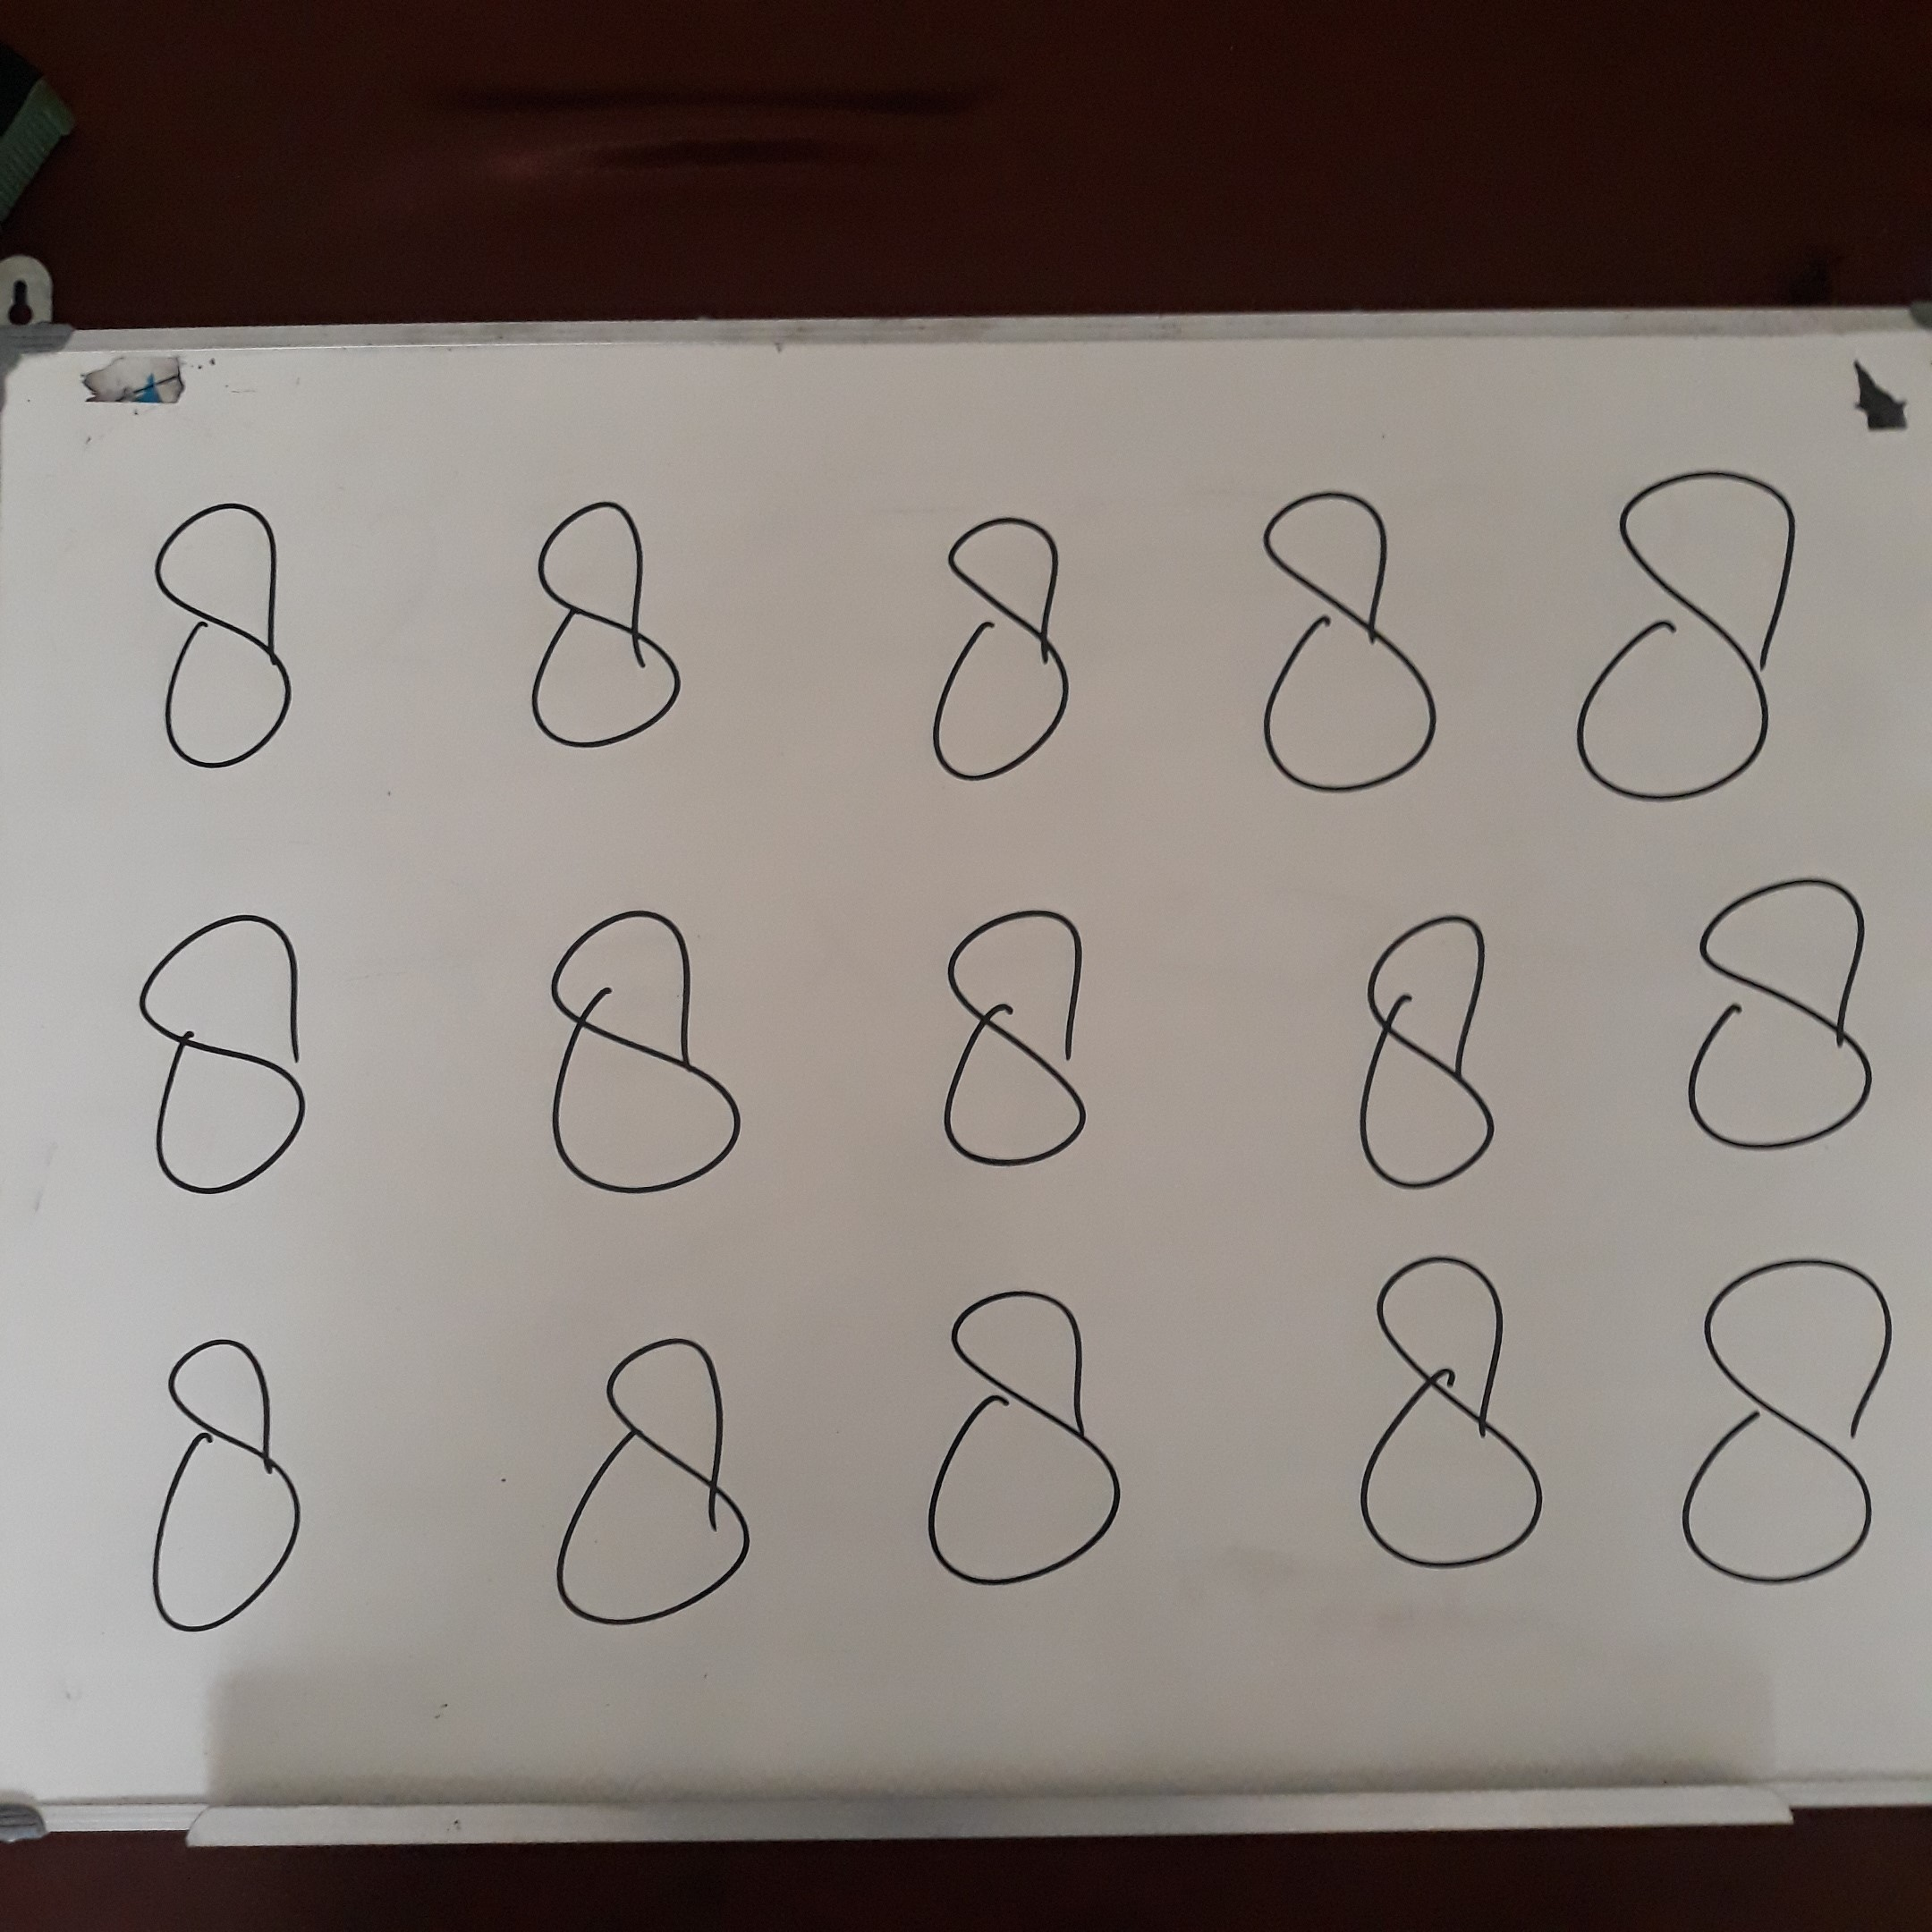num8: (500, 899, 809, 1255), (1648, 1238, 1928, 1616), (1562, 455, 1845, 825), (106, 899, 395, 1241), (519, 1317, 789, 1644), (1238, 459, 1470, 817), (1343, 1248, 1572, 1594), (919, 1274, 1148, 1616), (106, 1329, 343, 1659), (1336, 895, 1565, 1227), (904, 906, 1148, 1216), (487, 472, 716, 797), (1679, 864, 1902, 1190), (904, 506, 1130, 817), (136, 487, 347, 794)
